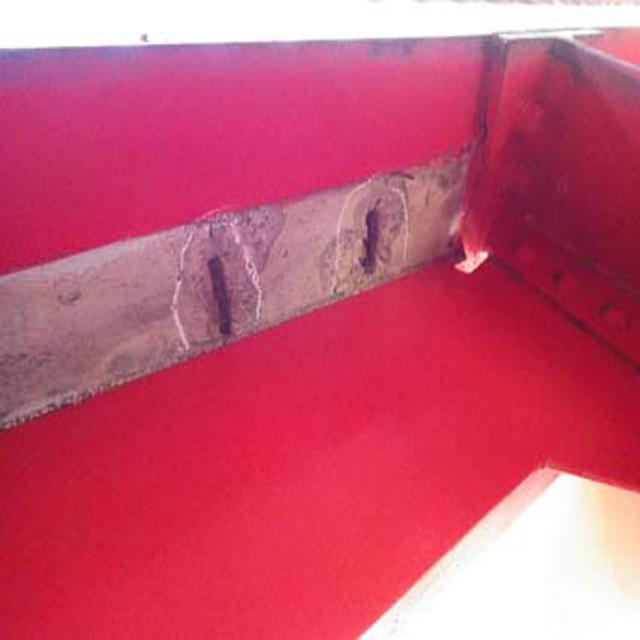spalling: (174, 206, 273, 353), (342, 168, 422, 302)
